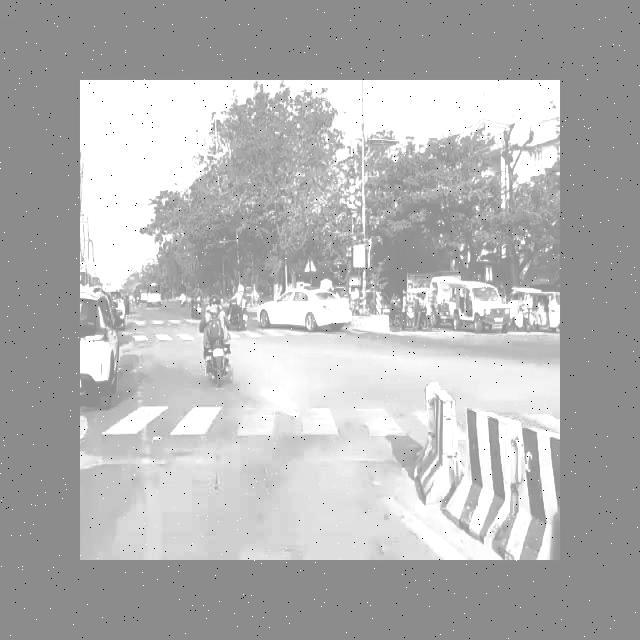Bike: (194, 299, 239, 391)
Car: (76, 265, 130, 407), (261, 271, 359, 347), (429, 271, 515, 339)
